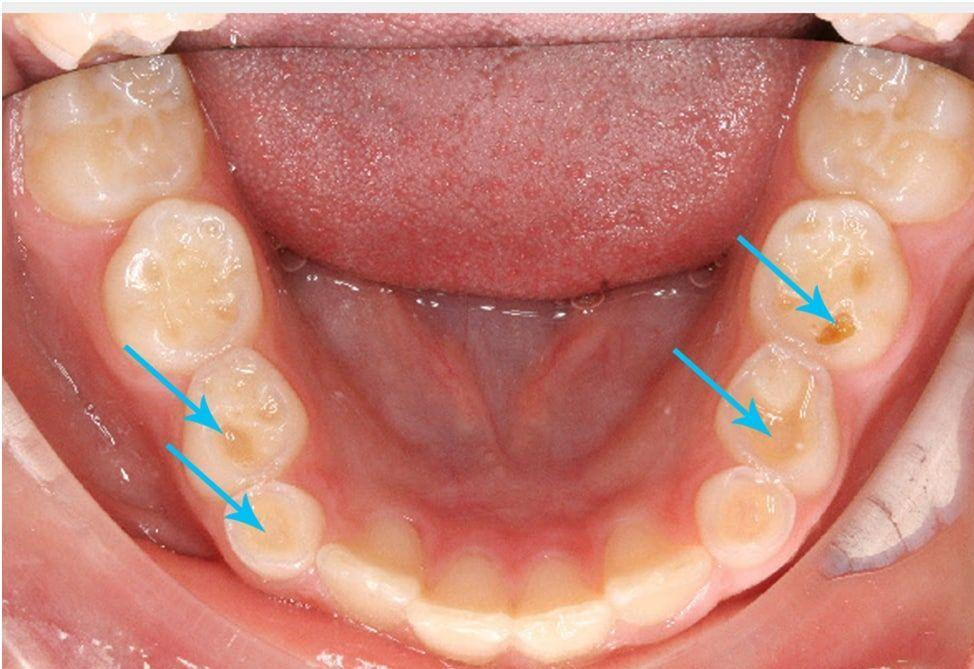LL1BC_decay: (774, 357, 839, 486)
LL1M_healthy: (827, 62, 962, 202)
LL2BC_decay: (829, 213, 914, 355)
LLCI_healthy: (520, 557, 605, 652)
LLC_healthy: (707, 472, 796, 566)
LLLI_healthy: (607, 528, 712, 618)
LR1BC_decay: (223, 357, 306, 475)
LR1M_healthy: (20, 61, 209, 226)
LR2BC_decay: (120, 213, 254, 343)
LRCI_healthy: (426, 561, 510, 653)
LRC_healthy: (266, 482, 316, 572)
LRLI_healthy: (332, 515, 426, 623)
